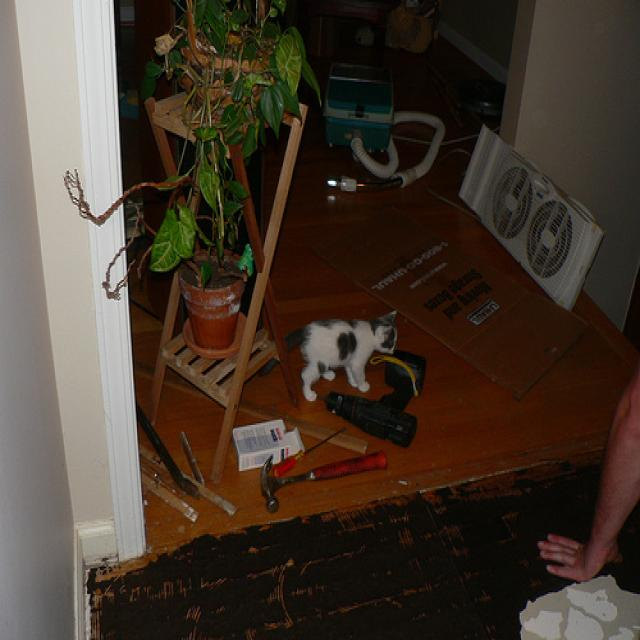Cat: (291, 304, 413, 407)
